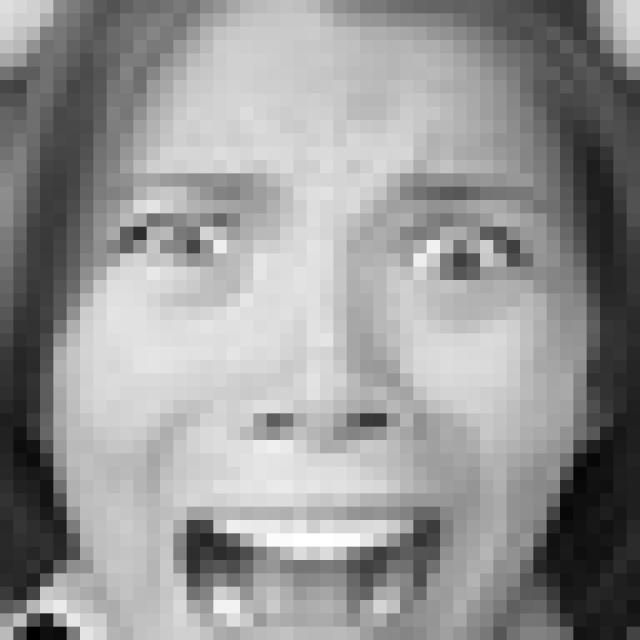fear: (97, 134, 558, 640)
